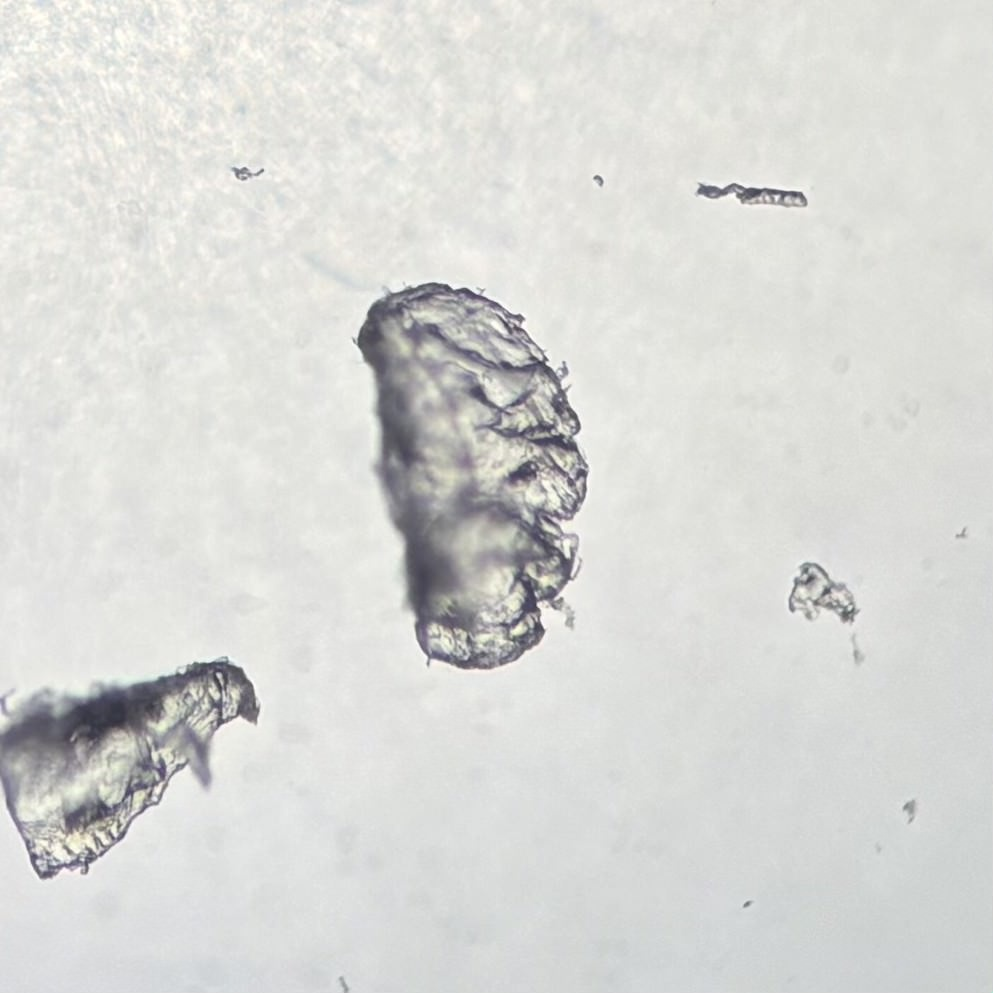microplastic: (345, 278, 593, 669), (2, 659, 266, 884), (784, 552, 865, 633), (690, 173, 819, 219)
